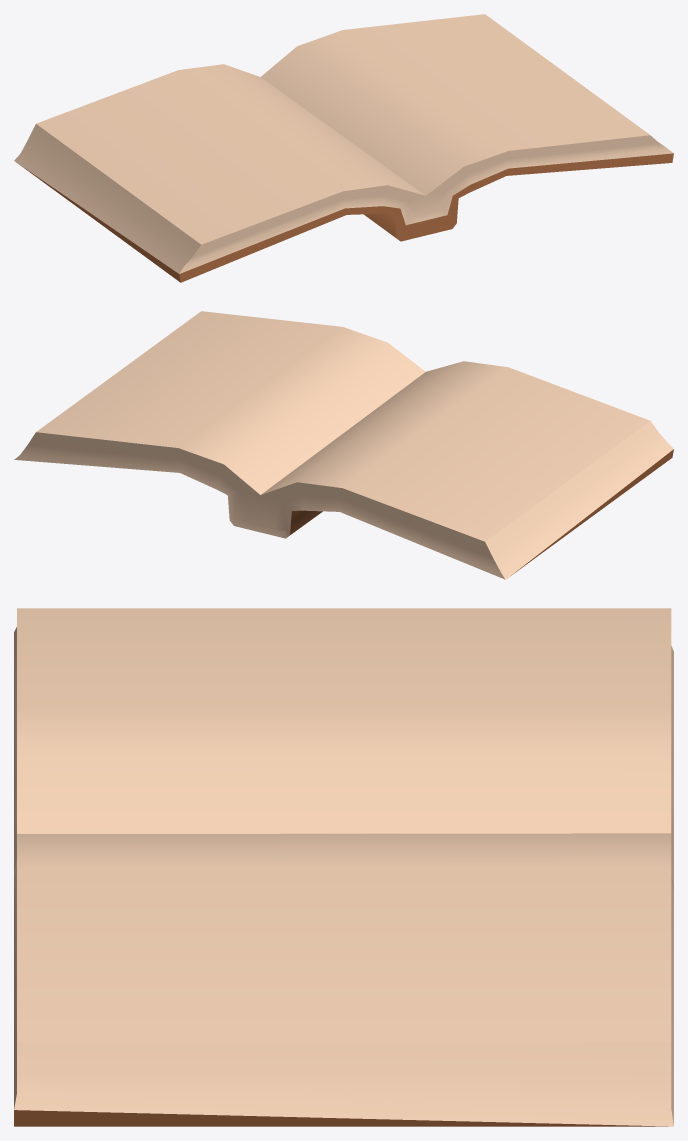
The model's file is OpenBook.FBX.
3 views of the same model, one above another, from view 1: azimuth 30°, elevation 25°; view 2: azimuth 150°, elevation 25°; view 3: azimuth 270°, elevation 25° (orthographic). The views are drawn at different scales.
Visible parts, largest first — view 1: OpenBook; view 2: OpenBook; view 3: OpenBook.
Boxes of the visible parts, x1,y1,x2,y2 form: OpenBook: (14,14,673,282); OpenBook: (14,311,673,579); OpenBook: (14,608,673,1126).
Bounding box in the file's own units: 56.99 × 7.01 × 33.28.
